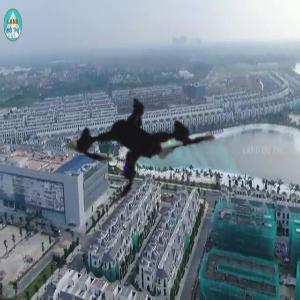drone: (27, 33, 259, 265)
